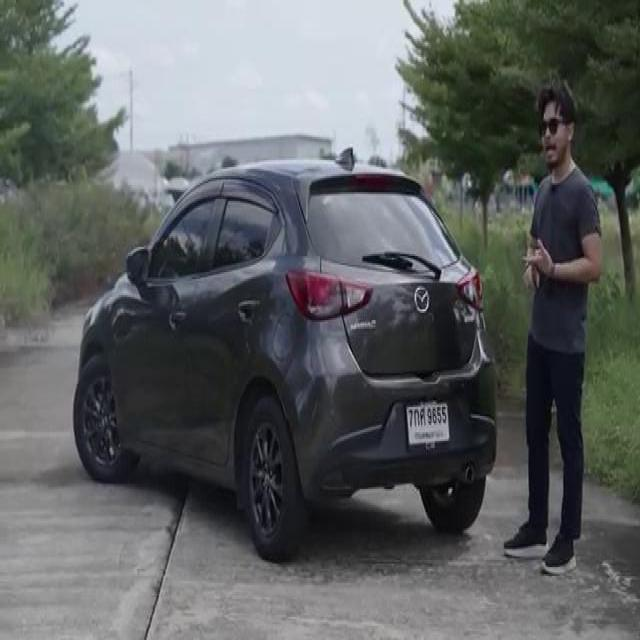Hatchback: (74, 149, 496, 560)
